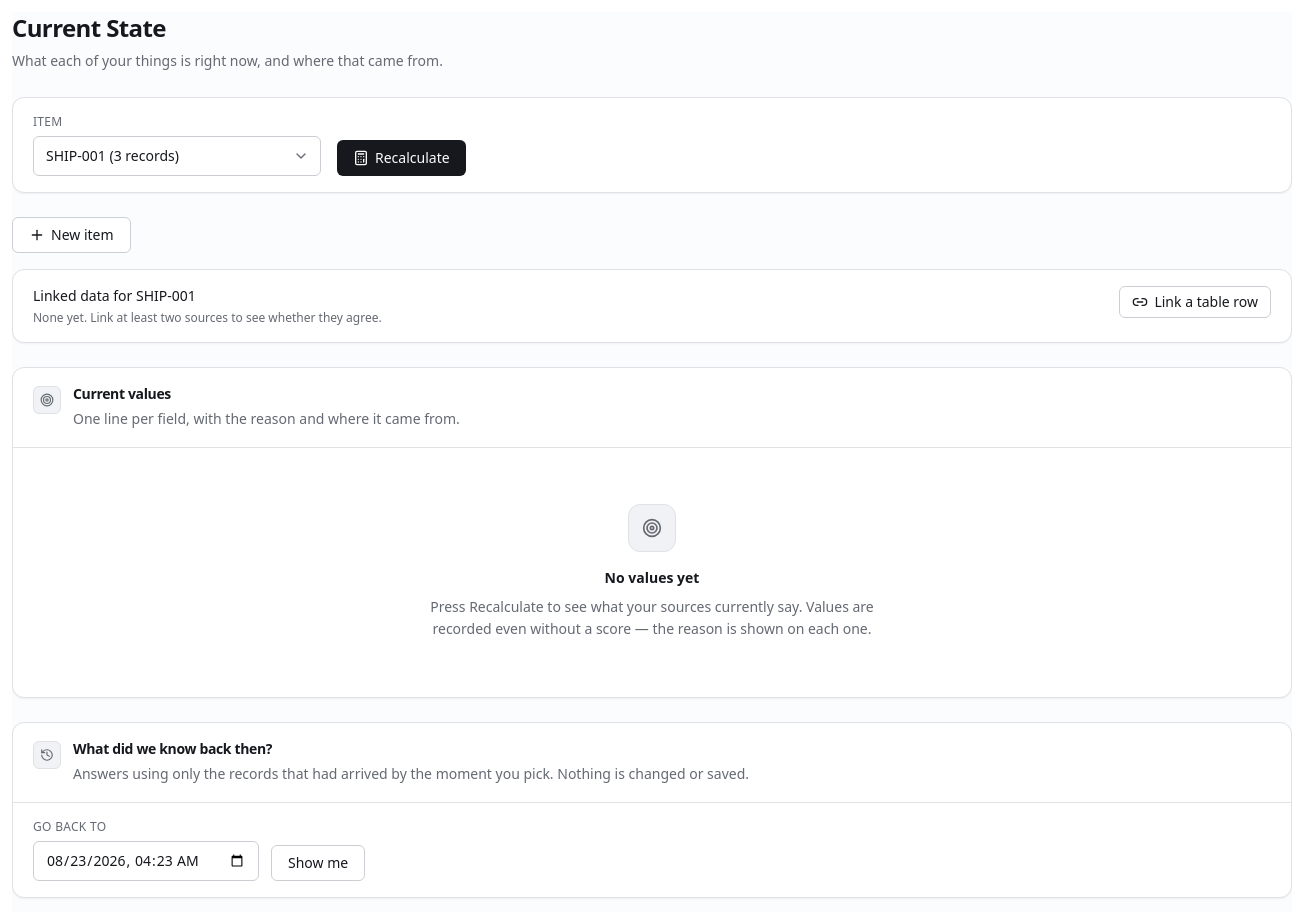
Scenario: Reality page › reports a blocked recalculation with what is missing
The width and height of the screenshot is (1292, 912).
Step 1. Click the button "Recalculate" → (401, 158), box [337,140,466,176]
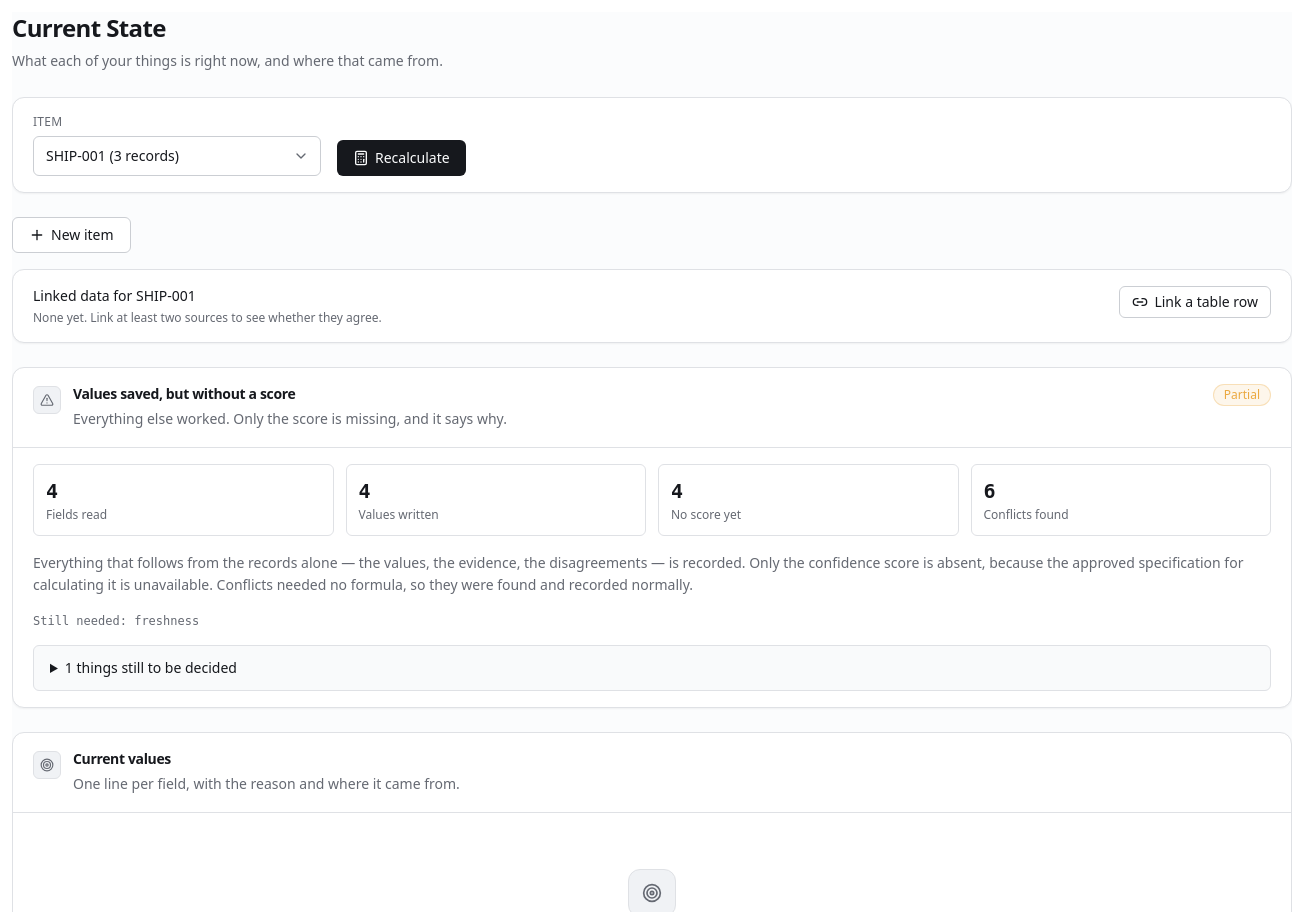
Check: the heading "Values saved, but without a score" is shown, box [73,384,295,403]
Check: the text "Still needed: freshness" is shown, box [33,614,199,628]
Check: the text "6" is shown, box [984,478,996,502]
